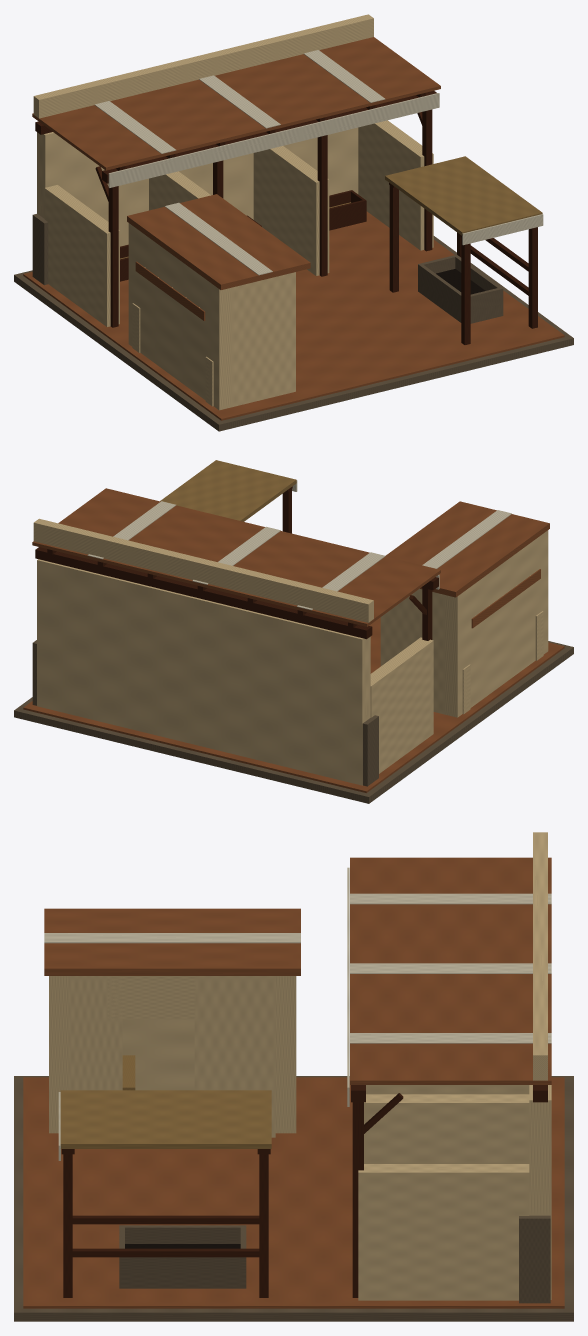
Rendered from Berber_Stable_Age4.fbx.
3 renders of one model, top to bottom at view 1: azimuth 30°, elevation 25°; view 2: azimuth 150°, elevation 25°; view 3: azimuth 270°, elevation 25°, orthographic. The views are drawn at different scales.
Parts seen in each view (by area): view 1: court_floor, stall_roof, tack_west, stall_rear_wall, stall_rear_parapet, tack_roof, tack_south, foundation, stall_partition_0, water_shade_roof, stall_partition_2, stall_partition_3 (+20 smaller); view 2: stall_rear_wall, stall_roof, tack_west, stall_rear_parapet, tack_roof, foundation, stall_partition_0, court_floor, water_shade_roof, stall_rear_beam, tack_north, tack_roof_owner_strip (+6 smaller); view 3: court_floor, stall_roof, stall_partition_3, tack_roof, foundation, water_shade_roof, stall_partition_2, tack_east_back, tack_east_front, tack_west, tack_door_lintel, stall_rear_parapet (+18 smaller).
Part boxes in pixels (x1,y1,x2,y2): court_floor: [23, 211, 564, 420]; stall_roof: [32, 37, 440, 170]; tack_west: [128, 223, 232, 410]; stall_rear_wall: [37, 127, 358, 246]; stall_rear_parapet: [33, 14, 373, 118]; tack_roof: [127, 194, 310, 289]; tack_south: [232, 272, 295, 406]; foundation: [14, 236, 573, 431]; stall_partition_0: [44, 185, 119, 326]; water_shade_roof: [385, 156, 542, 235]; stall_partition_2: [253, 146, 329, 275]; stall_partition_3: [358, 120, 433, 250]; stall_rear_wall: [37, 559, 370, 785]; stall_roof: [32, 488, 440, 626]; tack_west: [444, 530, 548, 717]; stall_rear_parapet: [33, 518, 373, 622]; tack_roof: [385, 501, 549, 597]; foundation: [14, 641, 573, 803]; stall_partition_0: [370, 637, 433, 773]; court_floor: [23, 617, 564, 792]; water_shade_roof: [160, 460, 296, 521]; stall_rear_beam: [35, 547, 372, 639]; tack_north: [380, 588, 444, 714]; tack_roof_owner_strip: [422, 510, 511, 568]; court_floor: [23, 1077, 564, 1308]; stall_roof: [350, 857, 551, 1084]; stall_partition_3: [358, 1164, 529, 1300]; tack_roof: [44, 908, 300, 975]; foundation: [14, 1076, 573, 1321]; water_shade_roof: [60, 1090, 271, 1148]; stall_partition_2: [364, 1094, 529, 1163]; tack_east_back: [194, 976, 275, 1137]; tack_east_front: [69, 976, 122, 1090]; tack_west: [122, 1019, 194, 1090]; tack_door_lintel: [107, 976, 196, 1019]; stall_rear_parapet: [533, 832, 547, 1080].
Bounding box in the file's own units: 600 × 307 × 600.
8 materials, 8 textured.
